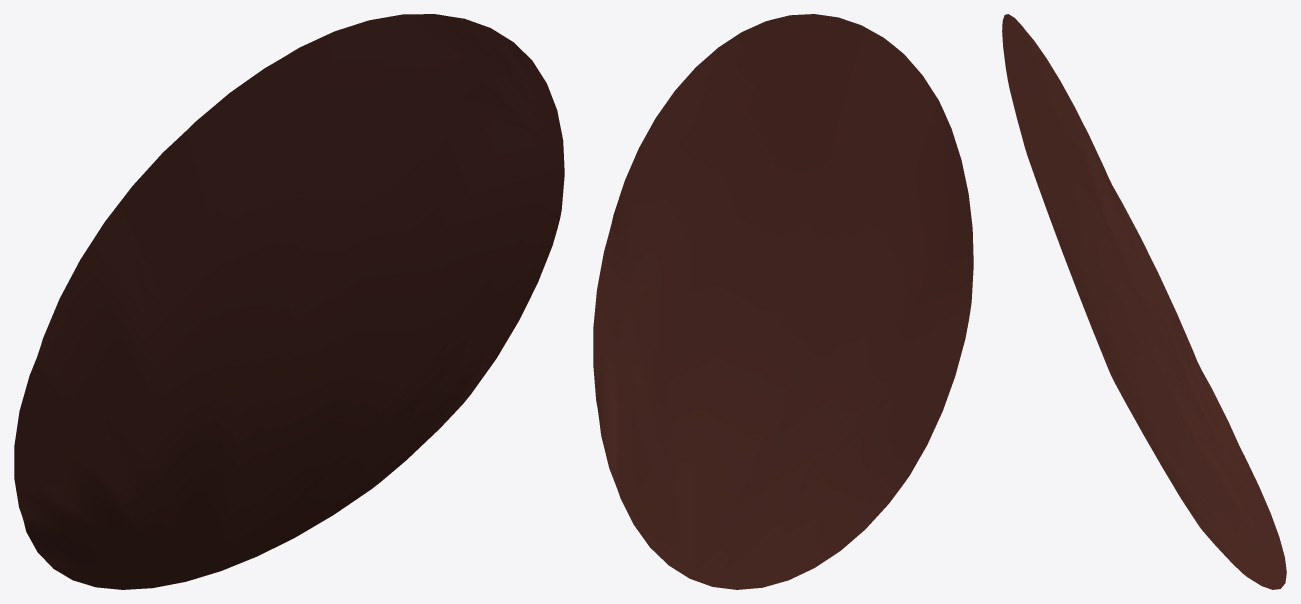
The model's file is mouth_oh.glb.
3 views of the same model, side by side, from view 1: azimuth 30°, elevation 25°; view 2: azimuth 150°, elevation 25°; view 3: azimuth 270°, elevation 25° (orthographic). The views are drawn at different scales.
Visible parts, largest first — view 1: Cat_mouth_oh.001; view 2: Cat_mouth_oh.001; view 3: Cat_mouth_oh.001.
Boxes of the visible parts, box(x1,y1,x2,y2) form: Cat_mouth_oh.001: box(14, 14, 564, 589); Cat_mouth_oh.001: box(593, 14, 973, 589); Cat_mouth_oh.001: box(1002, 14, 1286, 589).
Size of the model in its own units: 0.015 by 0.019 by 0.00906.
